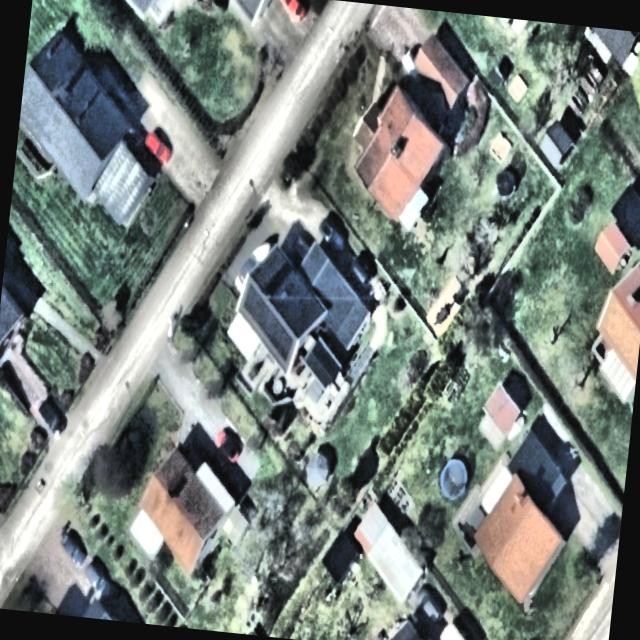roof_pv: (237, 282, 298, 364)
